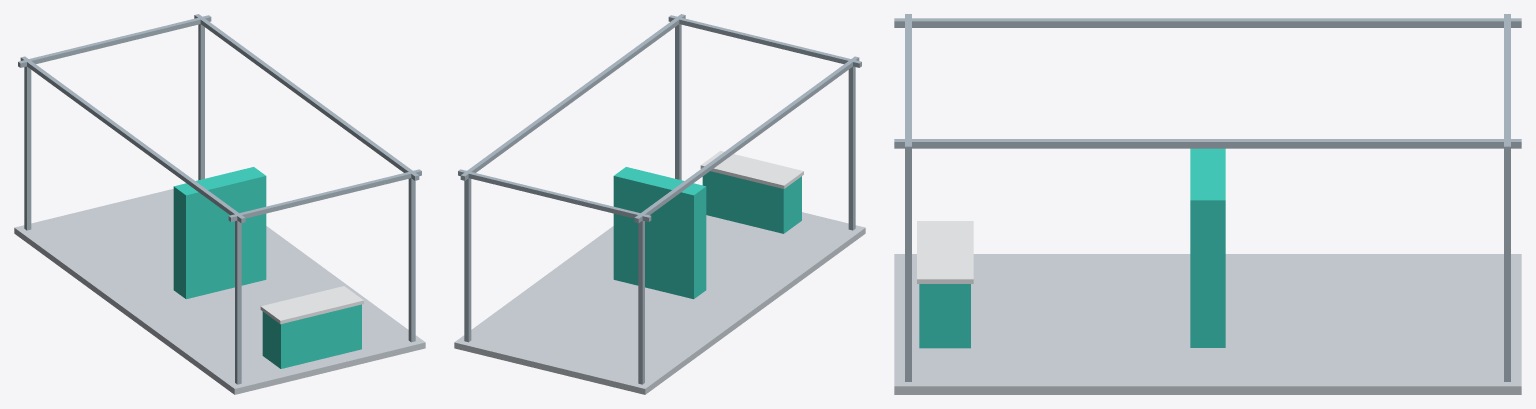
3 renders of one model, left to right at view 1: azimuth 30°, elevation 25°; view 2: azimuth 150°, elevation 25°; view 3: azimuth 270°, elevation 25°, orthographic. The views are drawn at different scales.
Parts seen in each view (by area): view 1: Exhibition Booth Concept; view 2: Exhibition Booth Concept; view 3: Exhibition Booth Concept.
Boxes of the visible parts, x1,y1,x2,y2 form: Exhibition Booth Concept: (14,14,425,394); Exhibition Booth Concept: (454,14,865,394); Exhibition Booth Concept: (894,14,1521,394).
Size of the model in its own units: 4 by 3.49 by 8.
